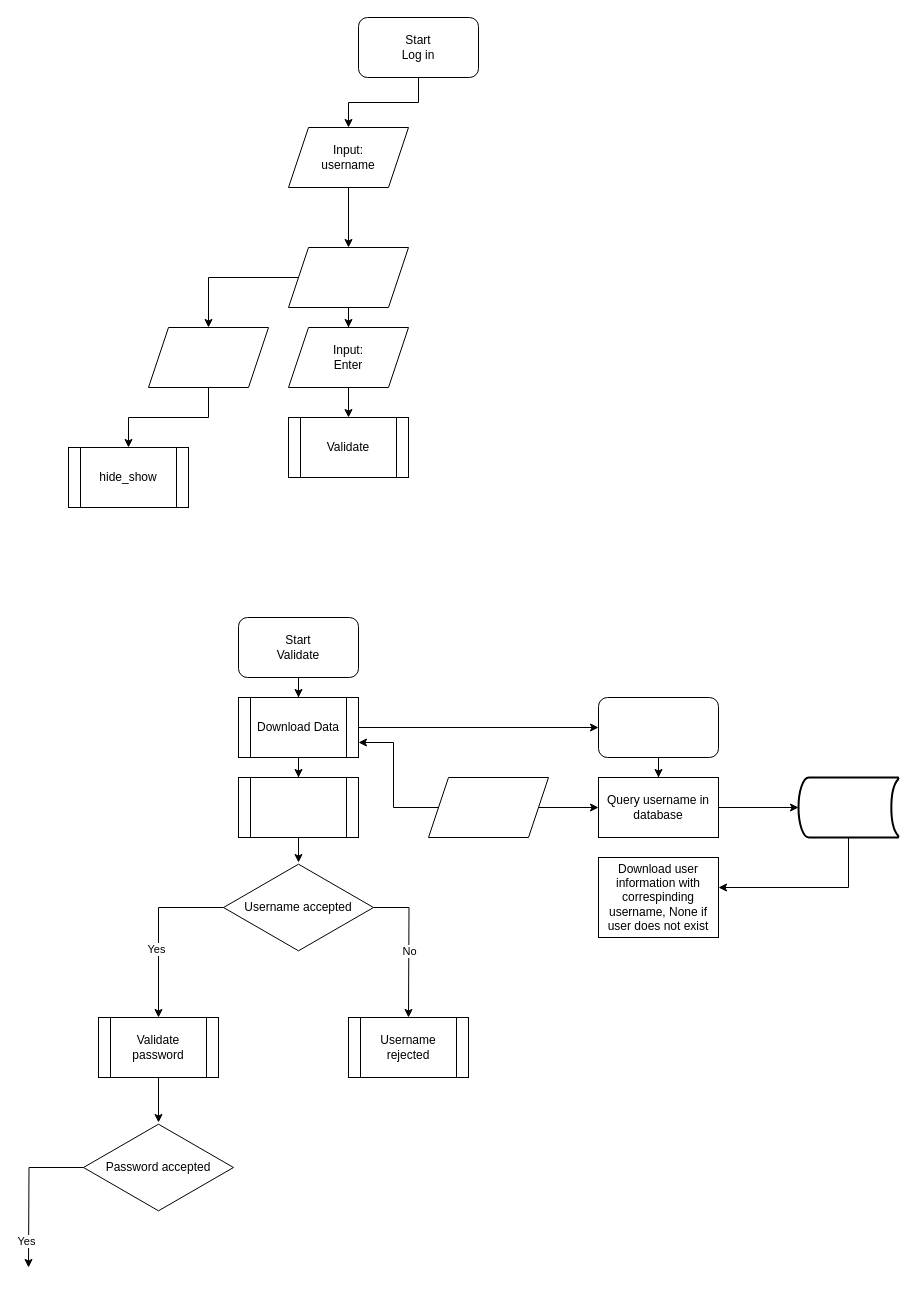
Image size: 917x1293. Some labels were removed from this diagram. The shapes that lost their labels are listed below. From the top down, each one's box as (x1, y1, x2, y2) in pixels, then its label:
(288, 246, 408, 308): Input: password
(148, 326, 268, 388): Button press: Hide and show password
(598, 696, 718, 758): Start Download Data
(238, 776, 358, 838): Validate Username
(428, 776, 548, 838): Username from input entry
(797, 776, 899, 838): Log in database
